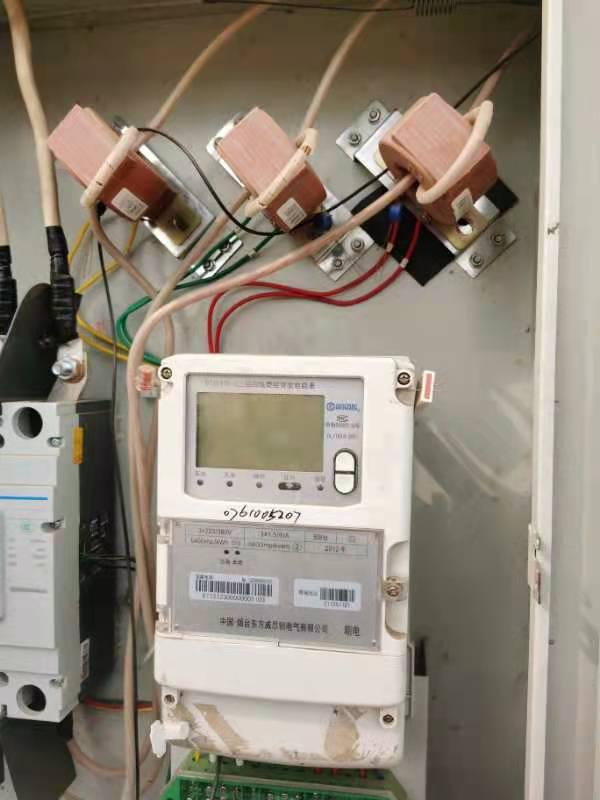digital: (154, 356, 403, 705)
